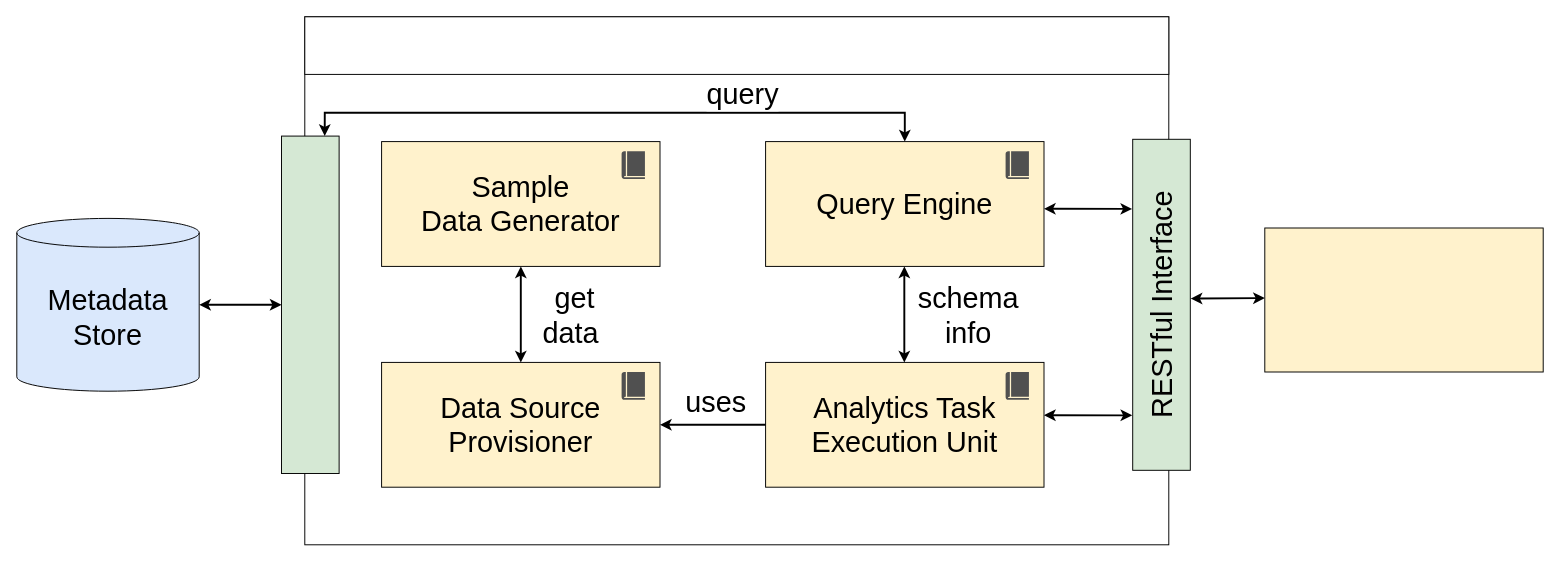
Some shapes in this 1560 by 562 pixel diagram are drawn without their labels. Each missing label, with the centre of its shape:
Server: the point at 736,45
SPARQL Interface: the point at 310,304
Web Client: the point at 1403,299
